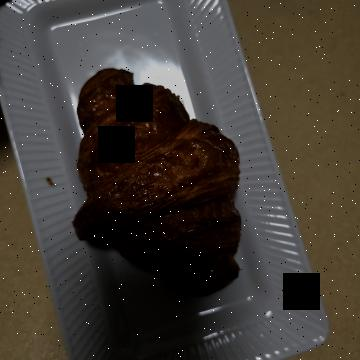croissant: (59, 100, 306, 297)
